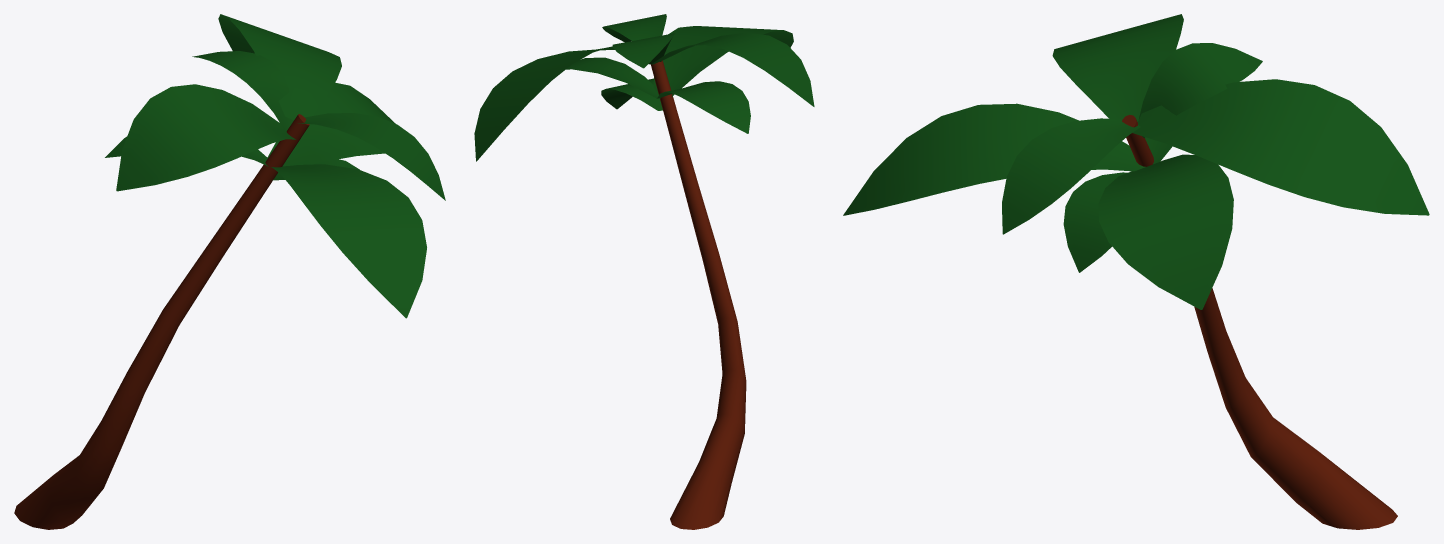
File: palmier.fbx
3 views of the same model, side by side, from view 1: azimuth 30°, elevation 25°; view 2: azimuth 150°, elevation 25°; view 3: azimuth 270°, elevation 25° (orthographic). The views are drawn at different scales.
Parts seen in each view (by area): view 1: Plane002, Cylinder001; view 2: Plane002, Cylinder001; view 3: Plane002, Cylinder001.
Boxes of the visible parts, x1,y1,x2,y2 form: Plane002: (105, 14, 445, 318); Cylinder001: (14, 114, 309, 529); Plane002: (474, 14, 814, 161); Cylinder001: (650, 60, 746, 529); Plane002: (843, 14, 1429, 309); Cylinder001: (1122, 115, 1397, 529).
Size of the model in its own units: 324 by 442 by 445.
